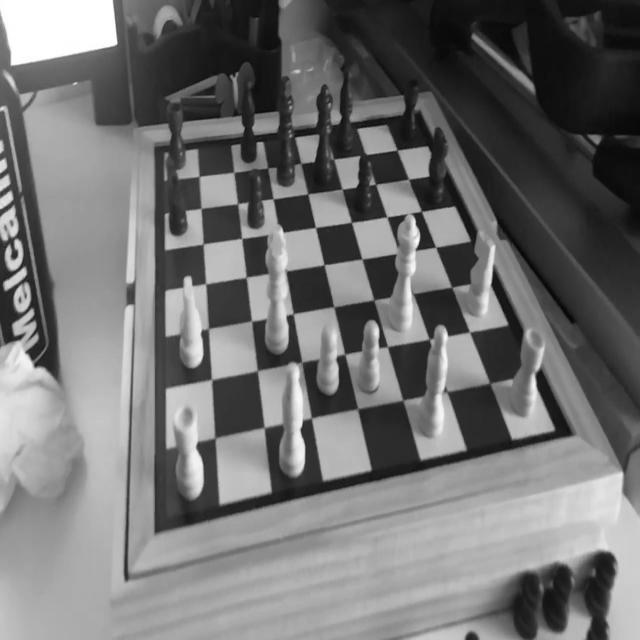chess-table-corners: (142, 503, 169, 545), (555, 412, 585, 449), (408, 94, 428, 122), (146, 130, 164, 158)
